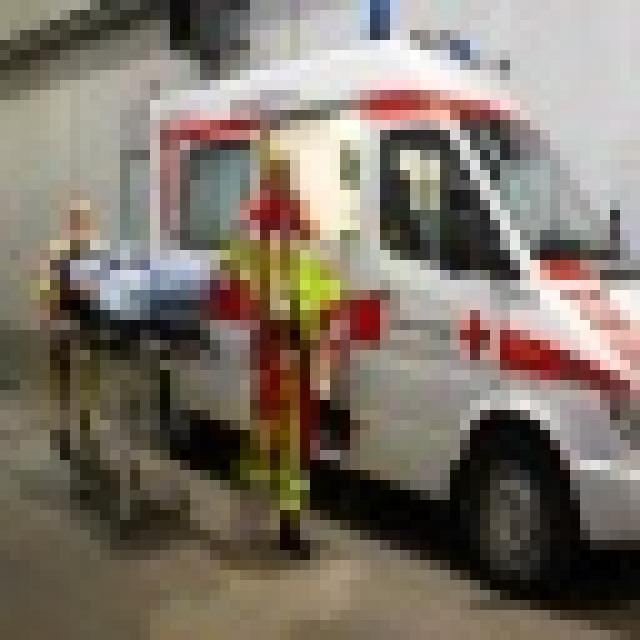Ambulance: (30, 20, 630, 590)
